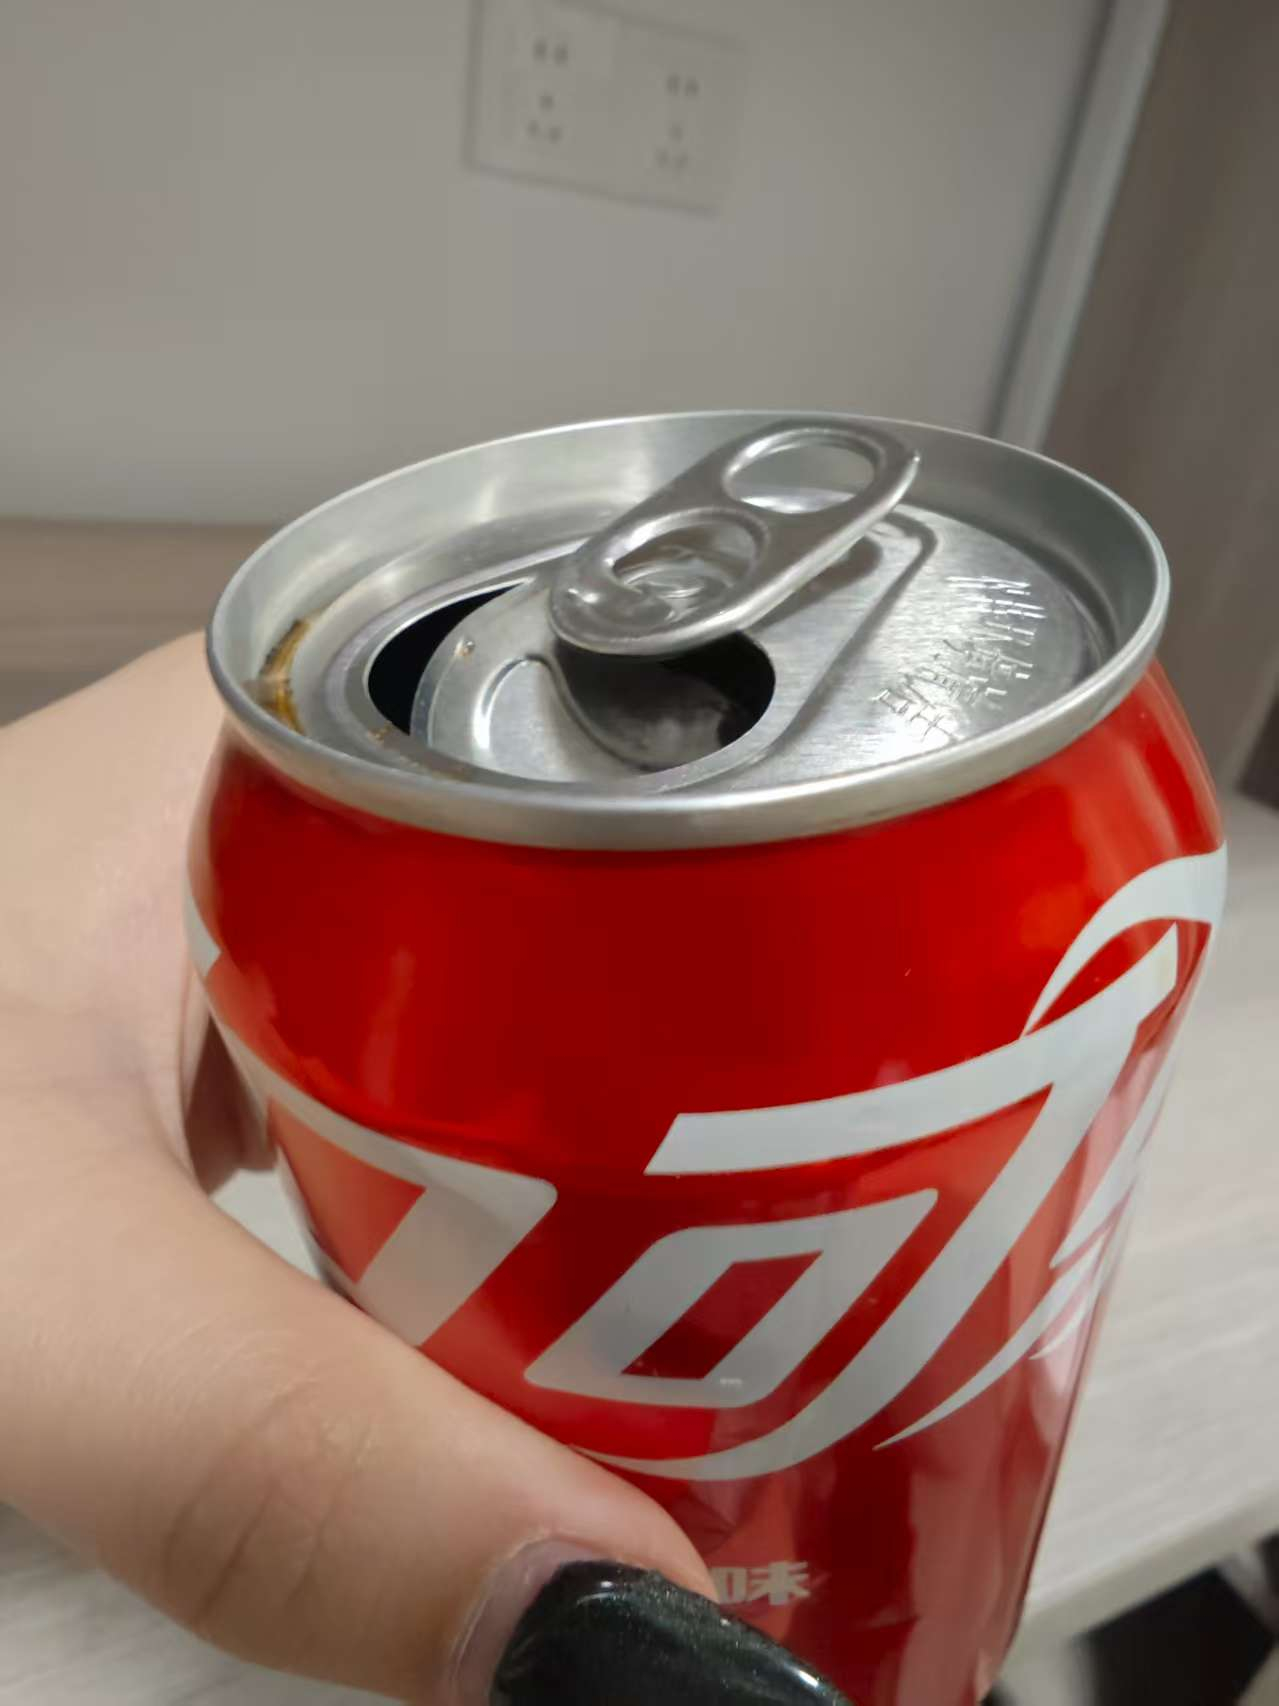可乐: (181, 367, 1157, 1705)
